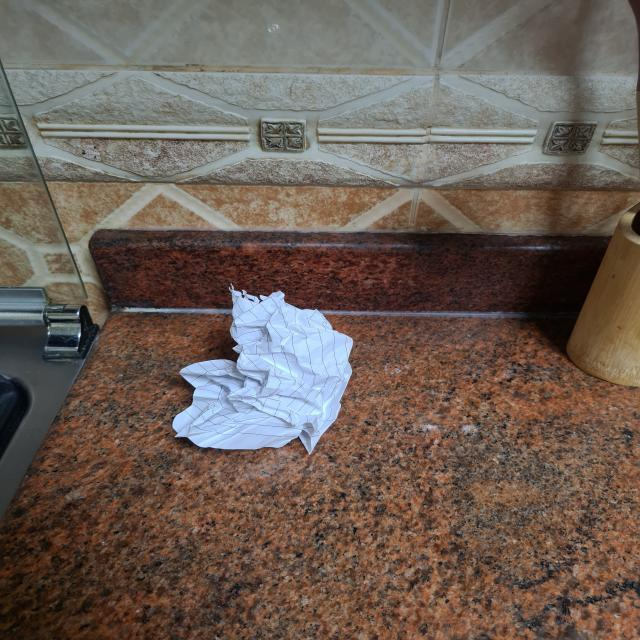Paper: (170, 290, 347, 456)
